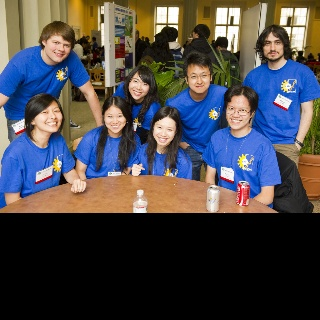without_mask: (223, 94, 252, 131), (33, 100, 63, 135), (44, 32, 73, 64), (186, 63, 210, 95), (151, 116, 175, 146), (127, 72, 151, 100), (103, 103, 125, 133), (261, 32, 283, 62)
